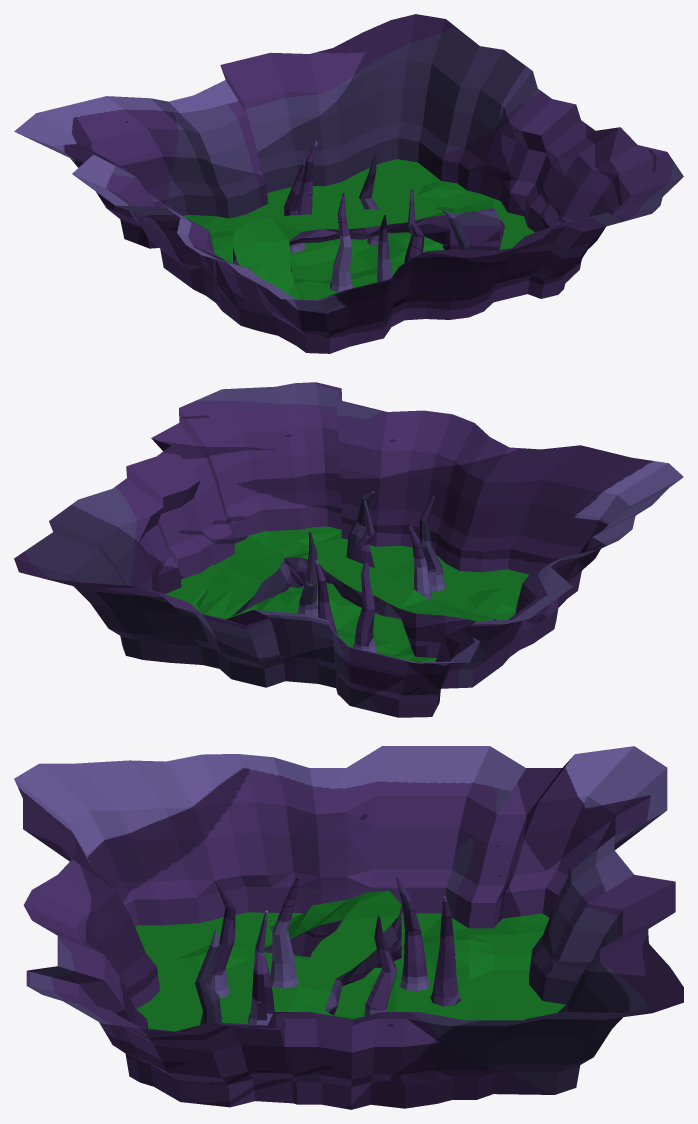
File: Mapas Batalla Base.fbx
The picture shows the model from 3 angles, top to bottom: view 1: azimuth 30°, elevation 25°; view 2: azimuth 150°, elevation 25°; view 3: azimuth 270°, elevation 25°; orthographic projection. The views are drawn at different scales.
Parts seen in each view (by area): view 1: Plane; view 2: Plane; view 3: Plane.
Part boxes in pixels (x1,y1,x2,y2): Plane: (14,14,683,353); Plane: (14,382,683,717); Plane: (14,746,683,1109).
Bounding box in the file's own units: 51659 × 51262 × 10811.
2 materials, 1 textured.
